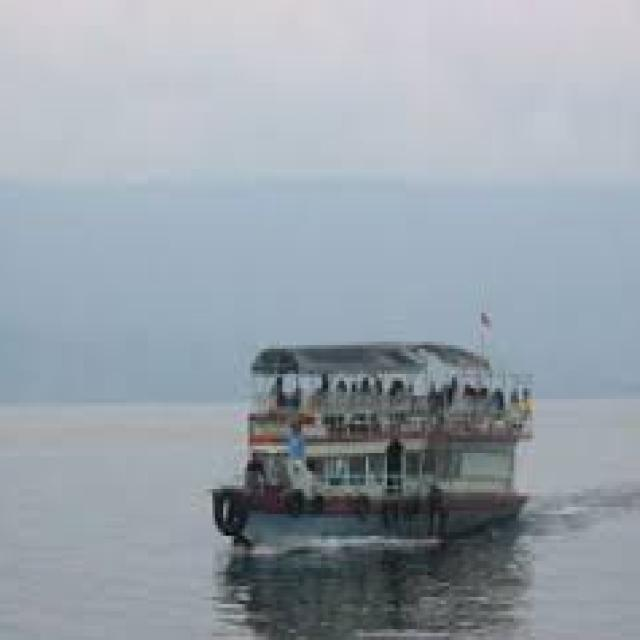houseboat: (209, 317, 532, 577)
